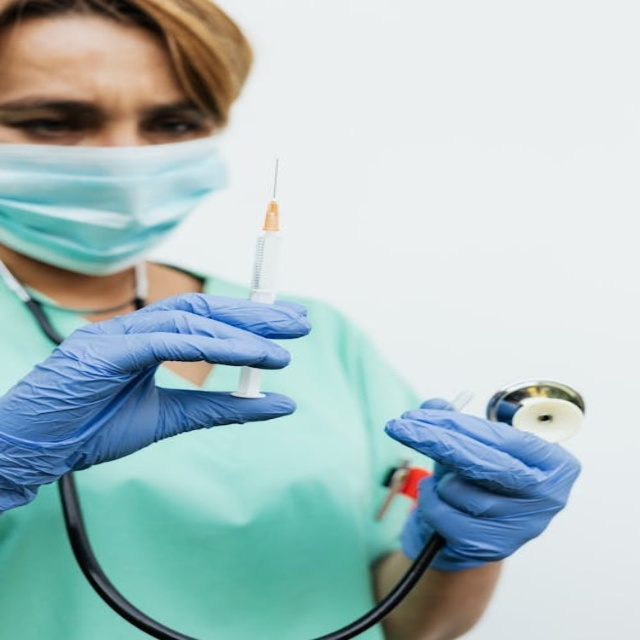Guantes: (1, 294, 305, 531), (385, 397, 582, 573)
Mascara: (1, 130, 230, 275)
Sin_gafas: (1, 84, 205, 142)
